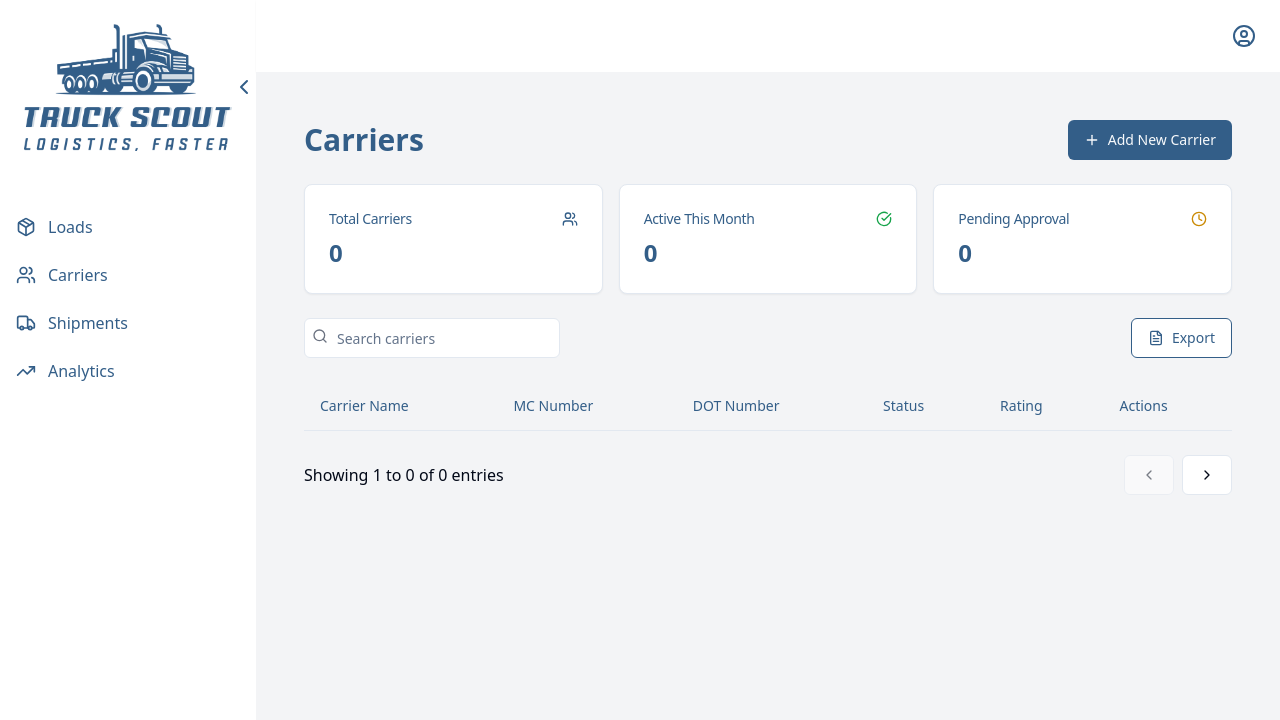
Test: Carriers Page › allows adding a new carrier
Click the button with test id "add-carrier-button" at (1150,140), box [1068,120,1232,160]
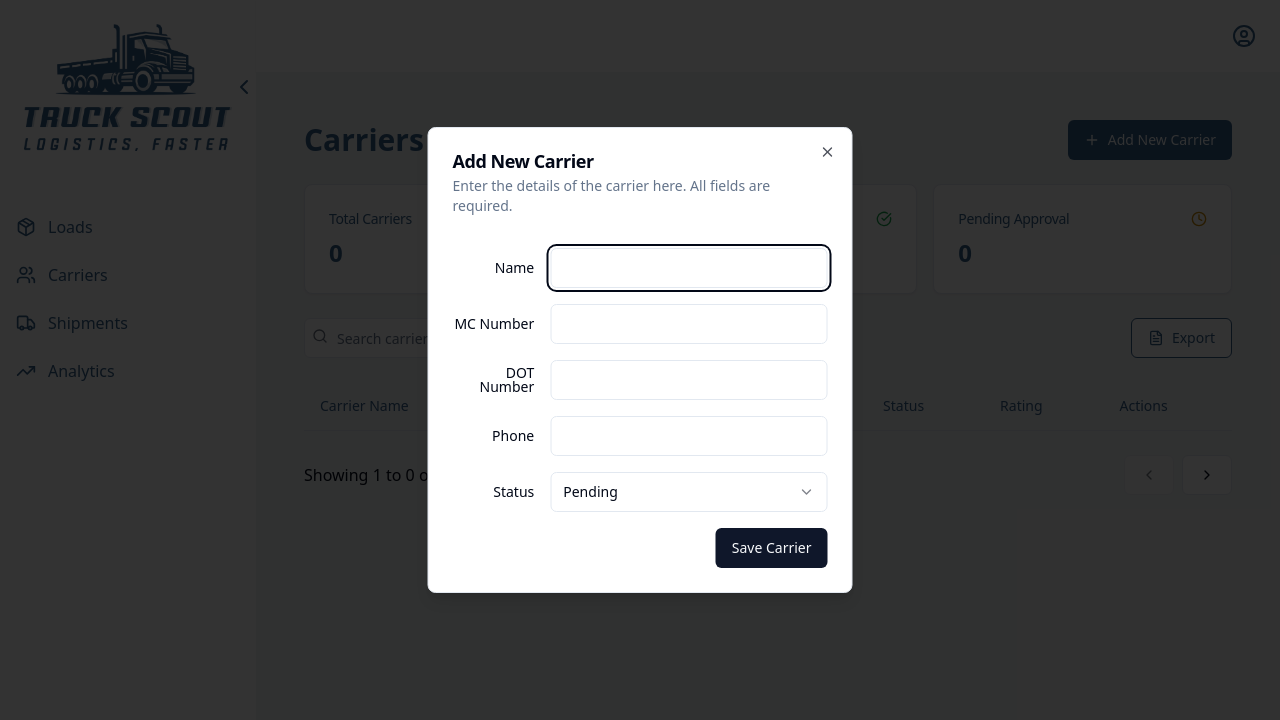
Type "New Test Carrier" into the field with test id "carrier-name-input" at (689,268), box [550,248,827,288]
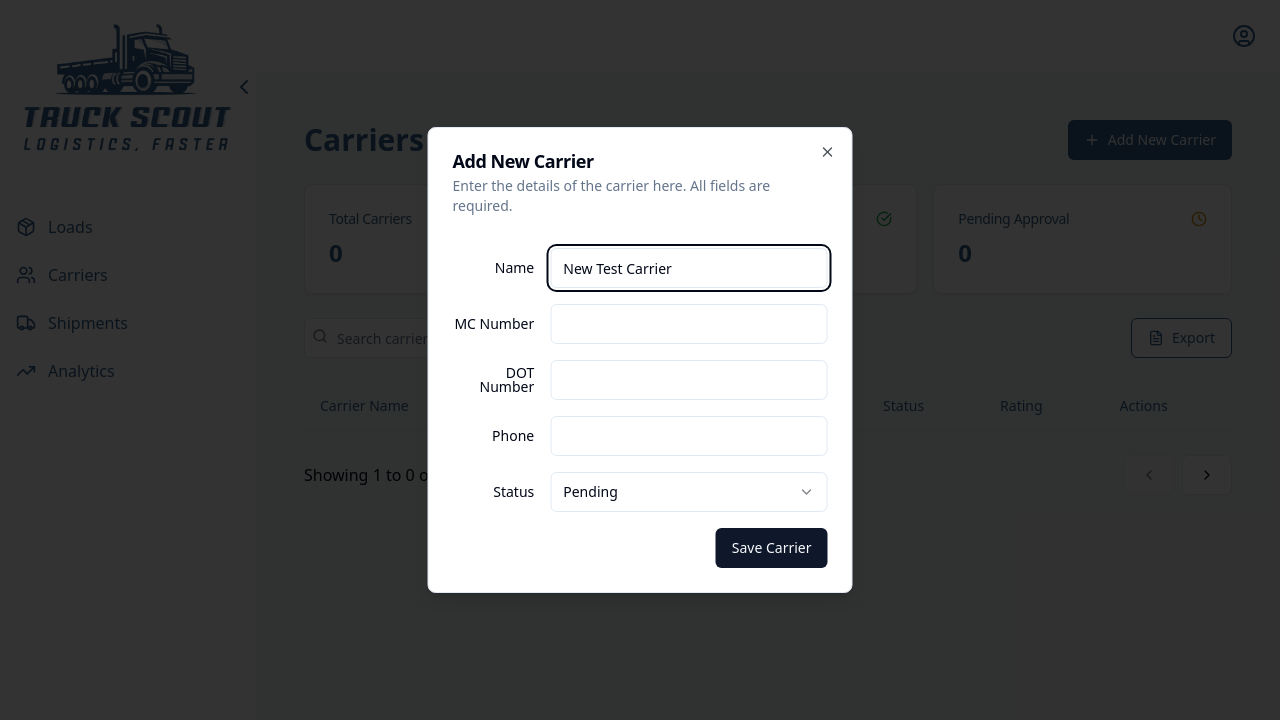
Type "MC123456" into the field with test id "carrier-mc-number-input" at (689,324), box [550,304,827,344]
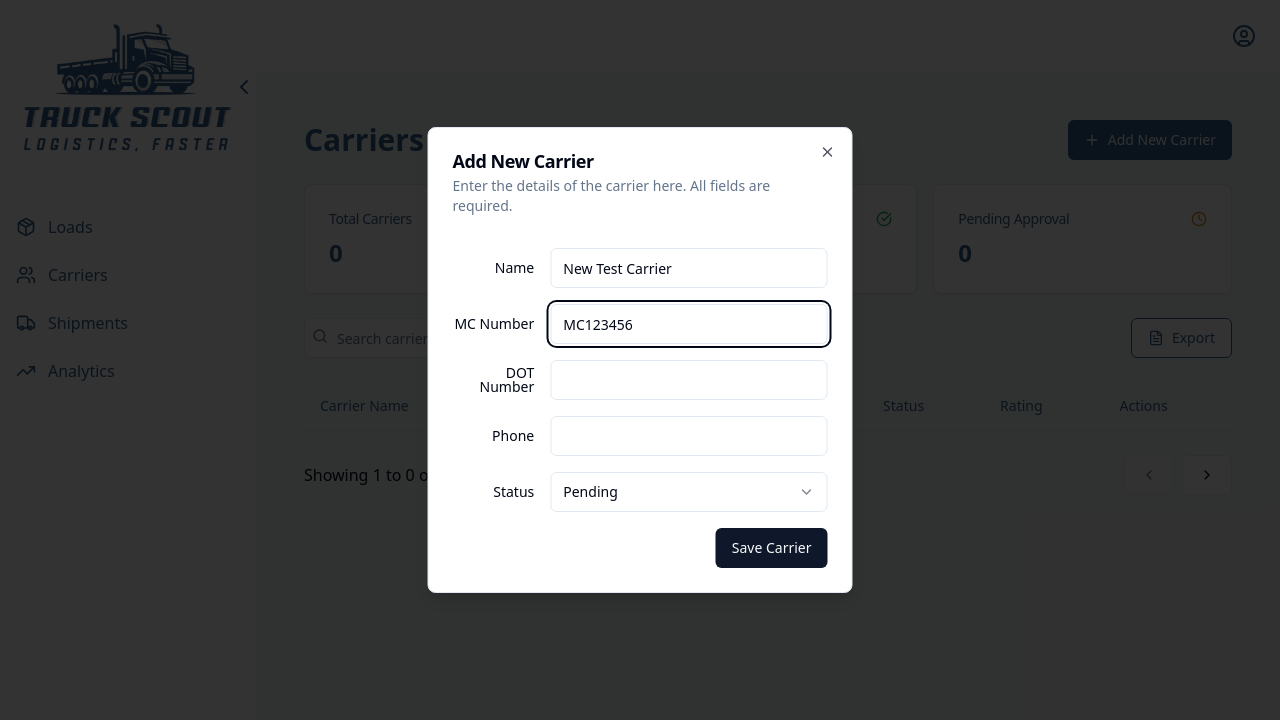
Type "DOT789012" into the field with test id "carrier-dot-number-input" at (689,380), box [550,360,827,400]
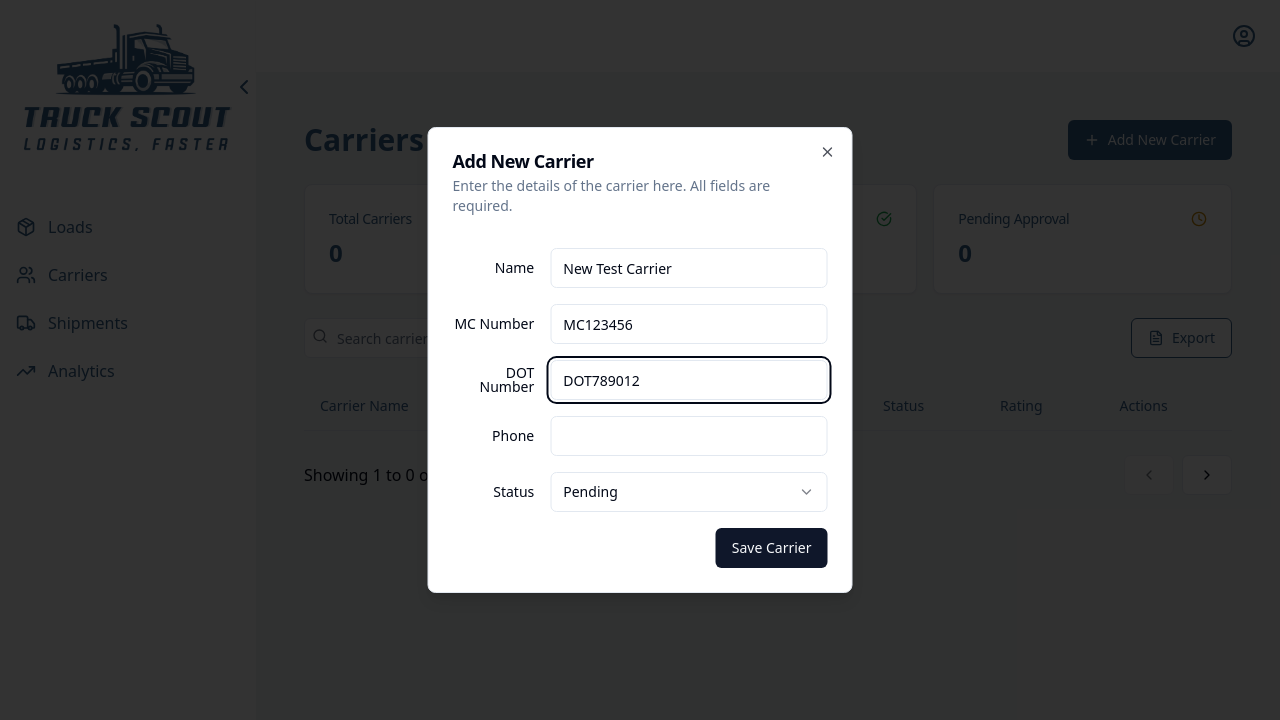
Type "1234567890" into the field with test id "carrier-phone-input" at (689,436), box [550,416,827,456]
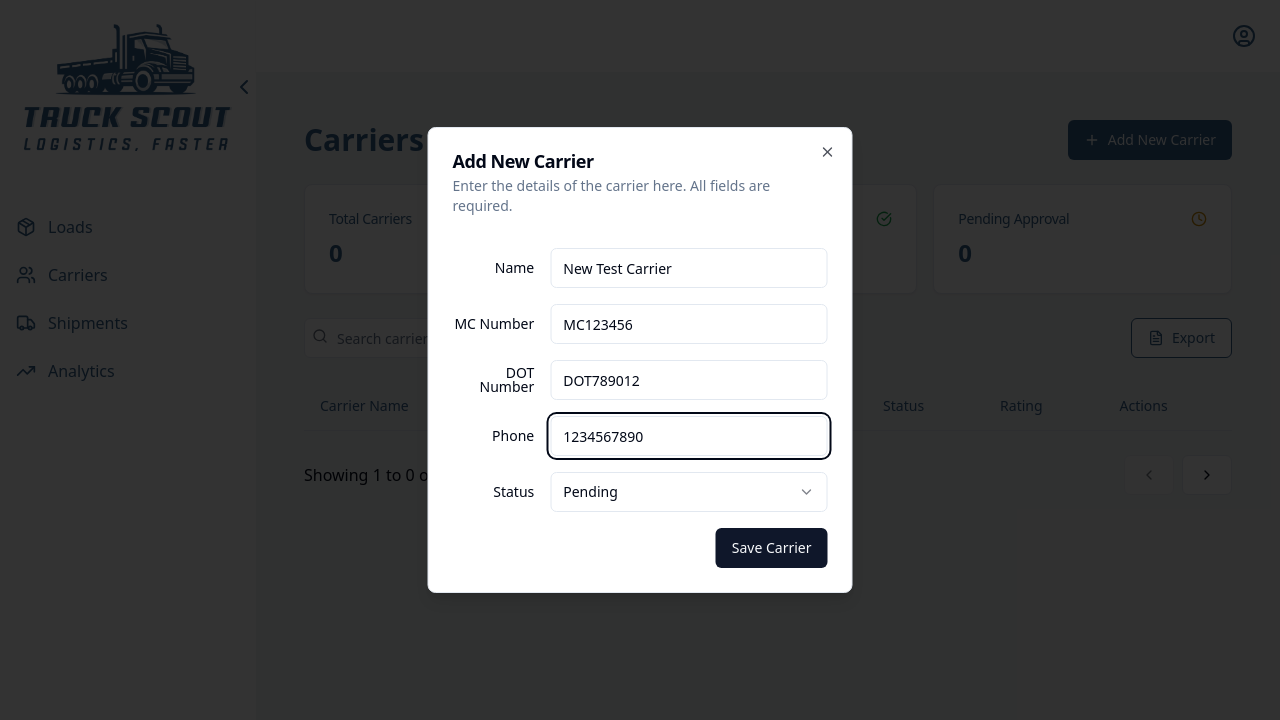
Click the button with test id "save-carrier-button" at (772,548), box [716,528,828,568]
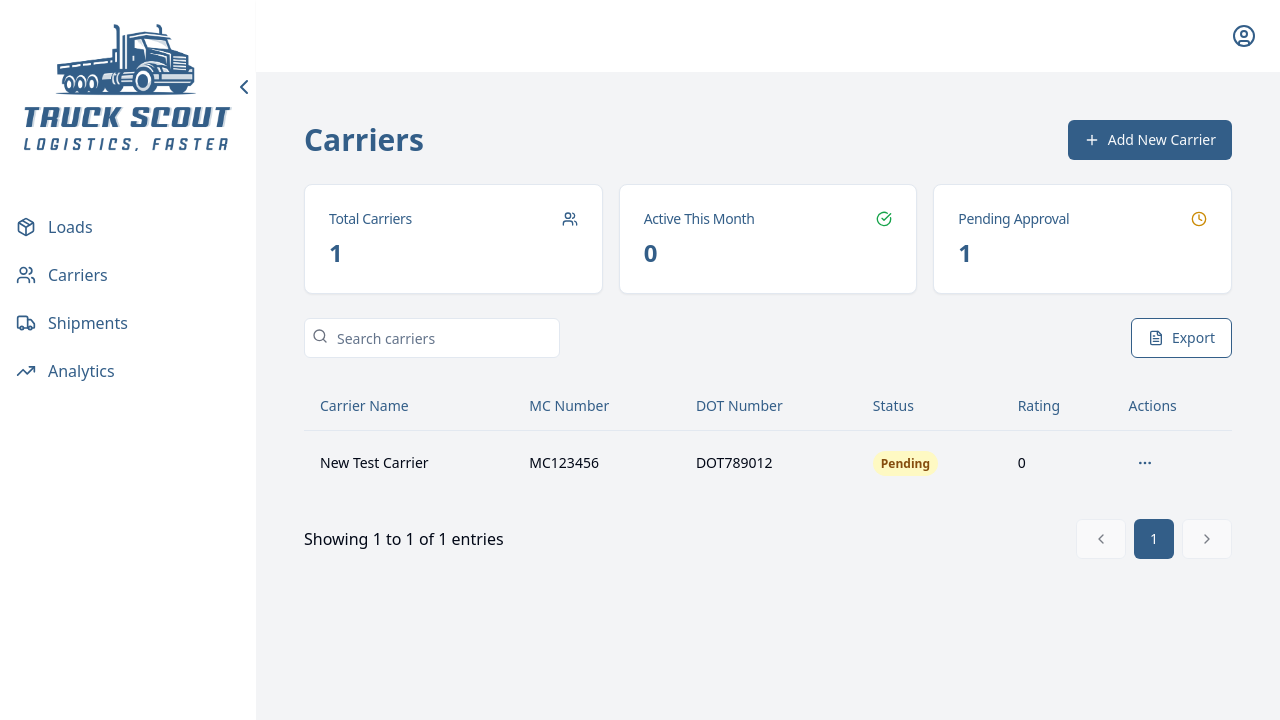
Result: the cell with test id "carrier-name" reads "New Test Carrier" at [320,453,429,472]
Result: the cell with test id "carrier-mc-number" reads "MC123456" at [529,453,599,472]
Result: the cell with test id "carrier-dot-number" reads "DOT789012" at [696,453,773,472]
